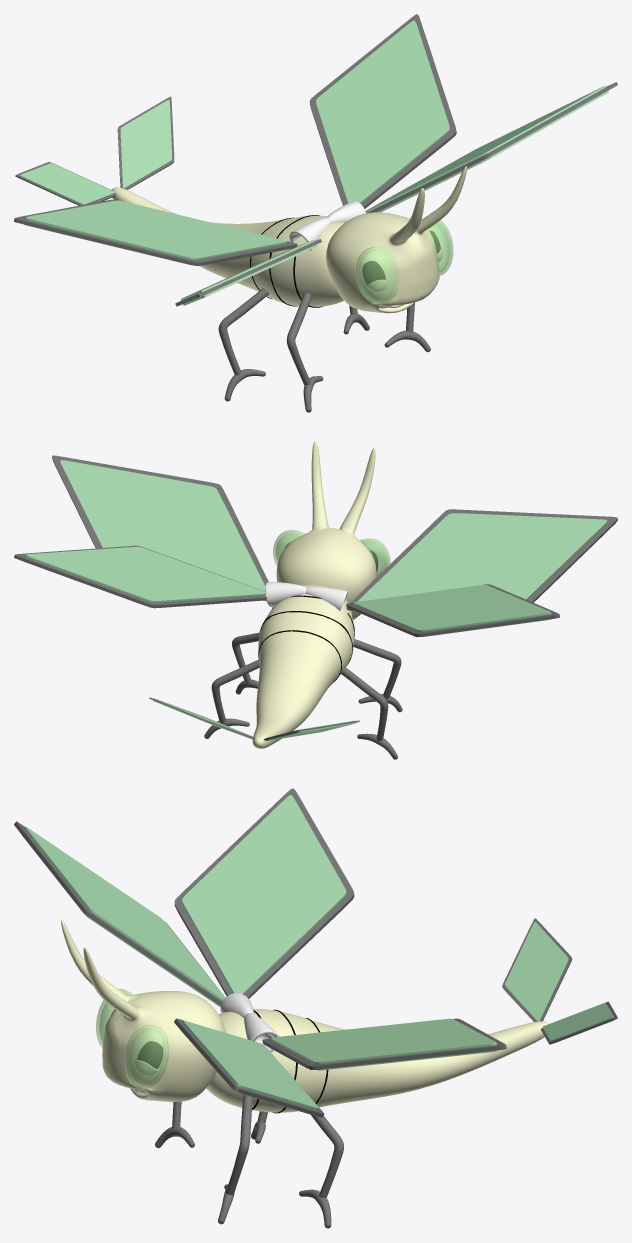
The model's file is vibrava.glb.
3 views of the same model, one above another, from view 1: azimuth 30°, elevation 25°; view 2: azimuth 150°, elevation 25°; view 3: azimuth 270°, elevation 25° (orthographic). The views are drawn at different scales.
Visible parts, largest first — view 1: s0207_Thicken_Glossy_5EBB6C_0, s0211_Cartoon_EDEDA3_0, s0206_Thicken_Cartoon_2F2F2F_0, s0235_Thicken_Glossy_7CFF6A73_0; view 2: s0207_Thicken_Glossy_5EBB6C_0, s0211_Cartoon_EDEDA3_0, s0206_Thicken_Cartoon_2F2F2F_0, s0235_Thicken_Glossy_7CFF6A73_0; view 3: s0207_Thicken_Glossy_5EBB6C_0, s0211_Cartoon_EDEDA3_0, s0206_Thicken_Cartoon_2F2F2F_0, s0235_Thicken_Glossy_7CFF6A73_0.
Boxes of the visible parts, x1=… form: s0207_Thicken_Glossy_5EBB6C_0: x1=20, y1=20, x2=608, y2=305; s0211_Cartoon_EDEDA3_0: x1=111, y1=166, x2=466, y2=313; s0206_Thicken_Cartoon_2F2F2F_0: x1=14, y1=14, x2=617, y2=412; s0235_Thicken_Glossy_7CFF6A73_0: x1=356, y1=220, x2=453, y2=304; s0207_Thicken_Glossy_5EBB6C_0: x1=25, y1=460, x2=607, y2=740; s0211_Cartoon_EDEDA3_0: x1=252, y1=441, x2=379, y2=748; s0206_Thicken_Cartoon_2F2F2F_0: x1=14, y1=455, x2=617, y2=759; s0235_Thicken_Glossy_7CFF6A73_0: x1=273, y1=529, x2=390, y2=576; s0207_Thicken_Glossy_5EBB6C_0: x1=23, y1=795, x2=614, y2=1115; s0211_Cartoon_EDEDA3_0: x1=61, y1=919, x2=549, y2=1112; s0206_Thicken_Cartoon_2F2F2F_0: x1=14, y1=788, x2=617, y2=1228; s0235_Thicken_Glossy_7CFF6A73_0: x1=96, y1=988, x2=168, y2=1089.
Bounding box in the file's own units: 0.4292 × 0.1781 × 0.3469.
Materials: 4 (4 with a texture image).
